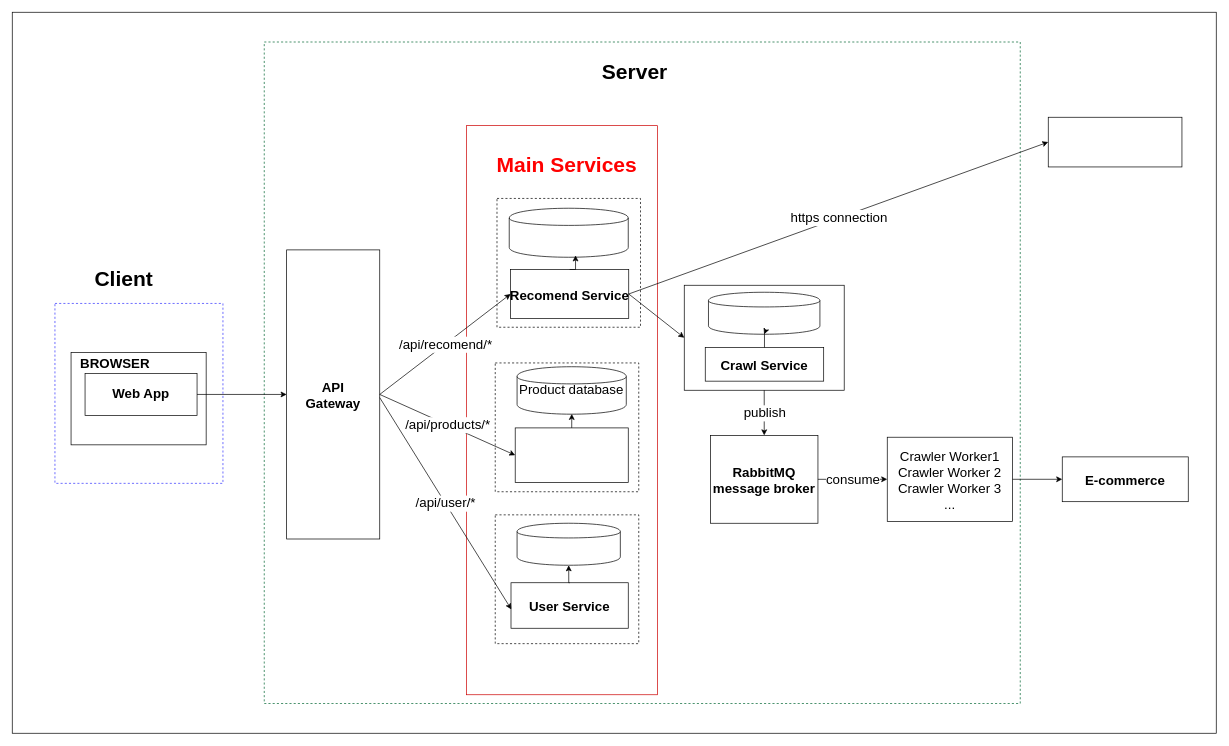
The diagram is 1229 pixels wide and 746 high, and some of its shapes have lost their labels. The shapes that lost their labels are listed below. From the top down, each one's box as (x1, y1, x2, y2) in pixels, then its label:
(1048, 117, 1182, 167): OpenAi Api
(509, 208, 628, 257): Recommender DB
(708, 292, 820, 334): crawl DB
(514, 427, 628, 483): Products Service
(516, 523, 620, 565): User Database
